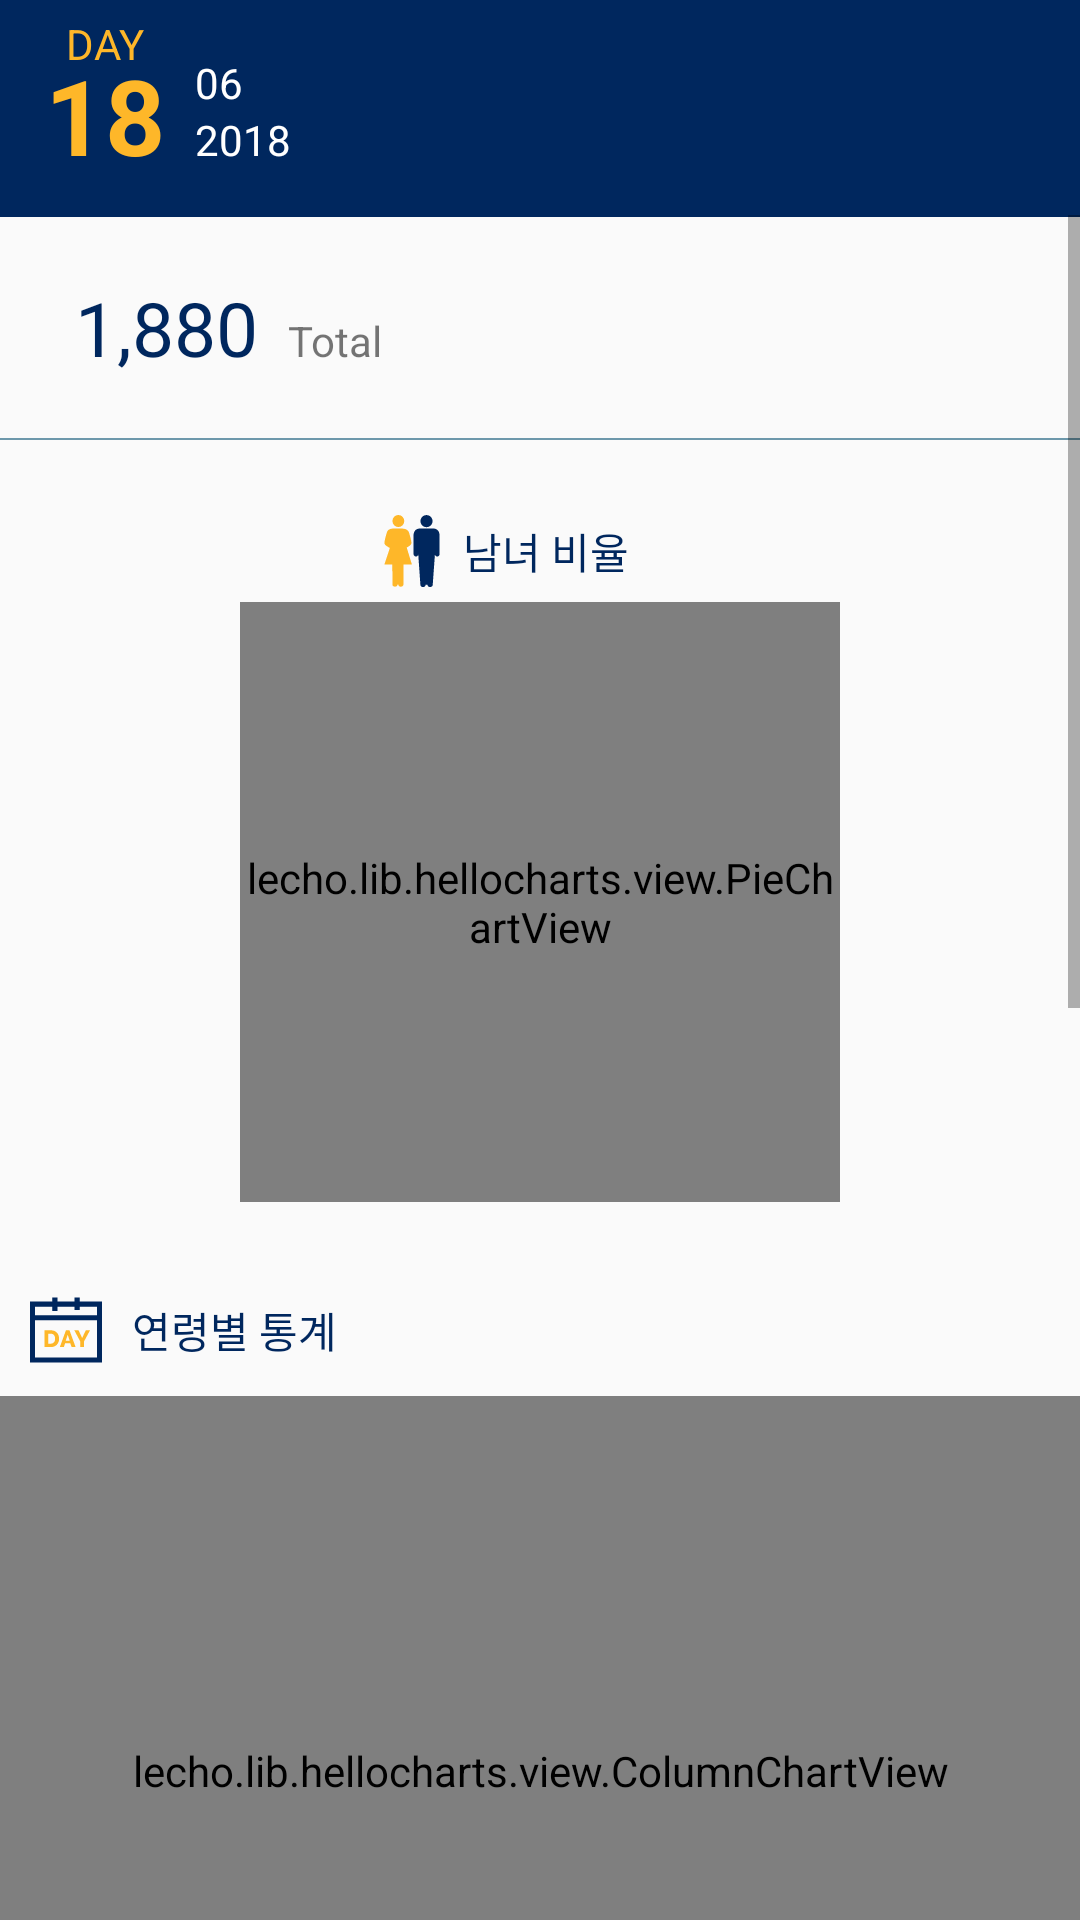

Icons on this 1080px x 1920px Android screen, each with its box as (x1, y1, x2, y2):
femalenmale: (384, 515, 440, 587)
